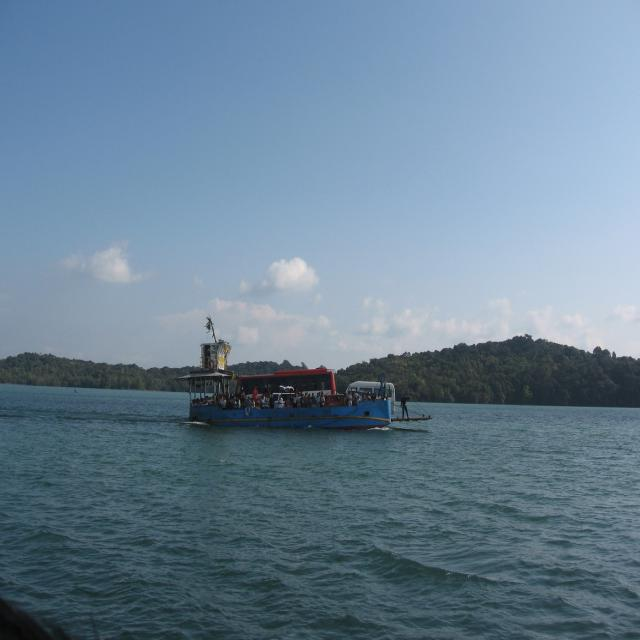fishing boat: (167, 322, 436, 442)
